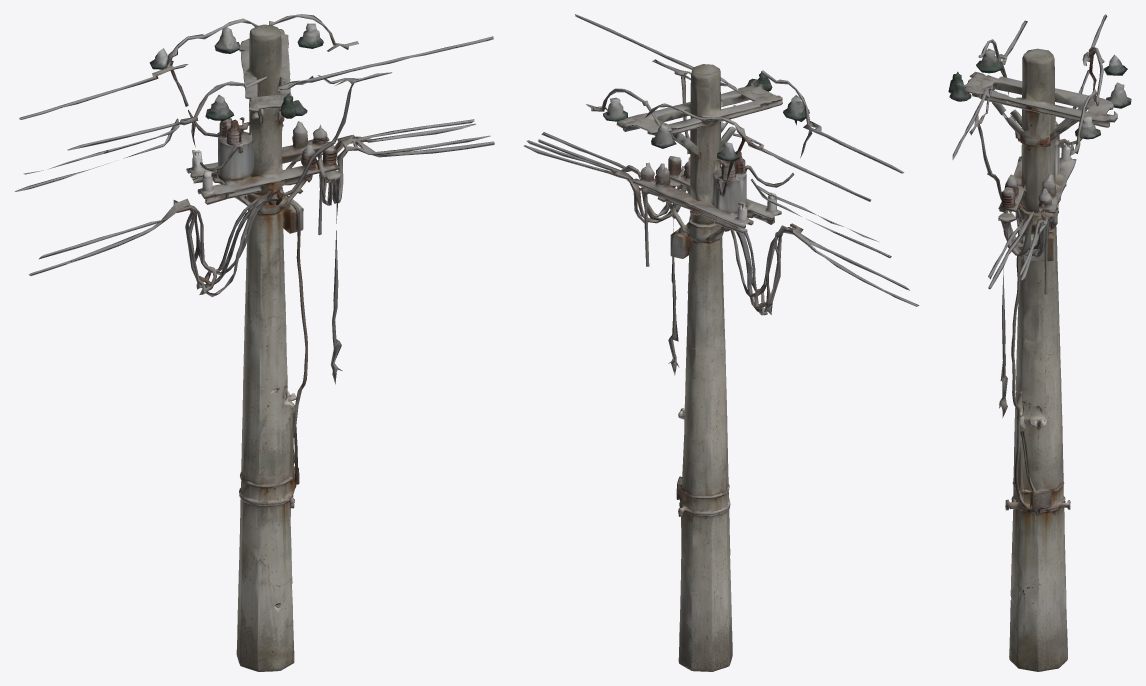
The model's file is pole_electric.glb.
3 renders of one model, left to right at view 1: azimuth 30°, elevation 25°; view 2: azimuth 150°, elevation 25°; view 3: azimuth 270°, elevation 25°, orthographic. The views are drawn at different scales.
Visible parts, largest first — view 1: tripo_node_498f3d0d-1855-4f05-abf8-a871083a6f47; view 2: tripo_node_498f3d0d-1855-4f05-abf8-a871083a6f47; view 3: tripo_node_498f3d0d-1855-4f05-abf8-a871083a6f47.
Boxes of the visible parts, x1,y1,x2,y2 form: tripo_node_498f3d0d-1855-4f05-abf8-a871083a6f47: (14,14,494,671); tripo_node_498f3d0d-1855-4f05-abf8-a871083a6f47: (523,14,919,671); tripo_node_498f3d0d-1855-4f05-abf8-a871083a6f47: (948,14,1131,671).
Bounding box in the file's own units: 0.7242 × 1 × 0.2738.
1 material, 1 textured.
